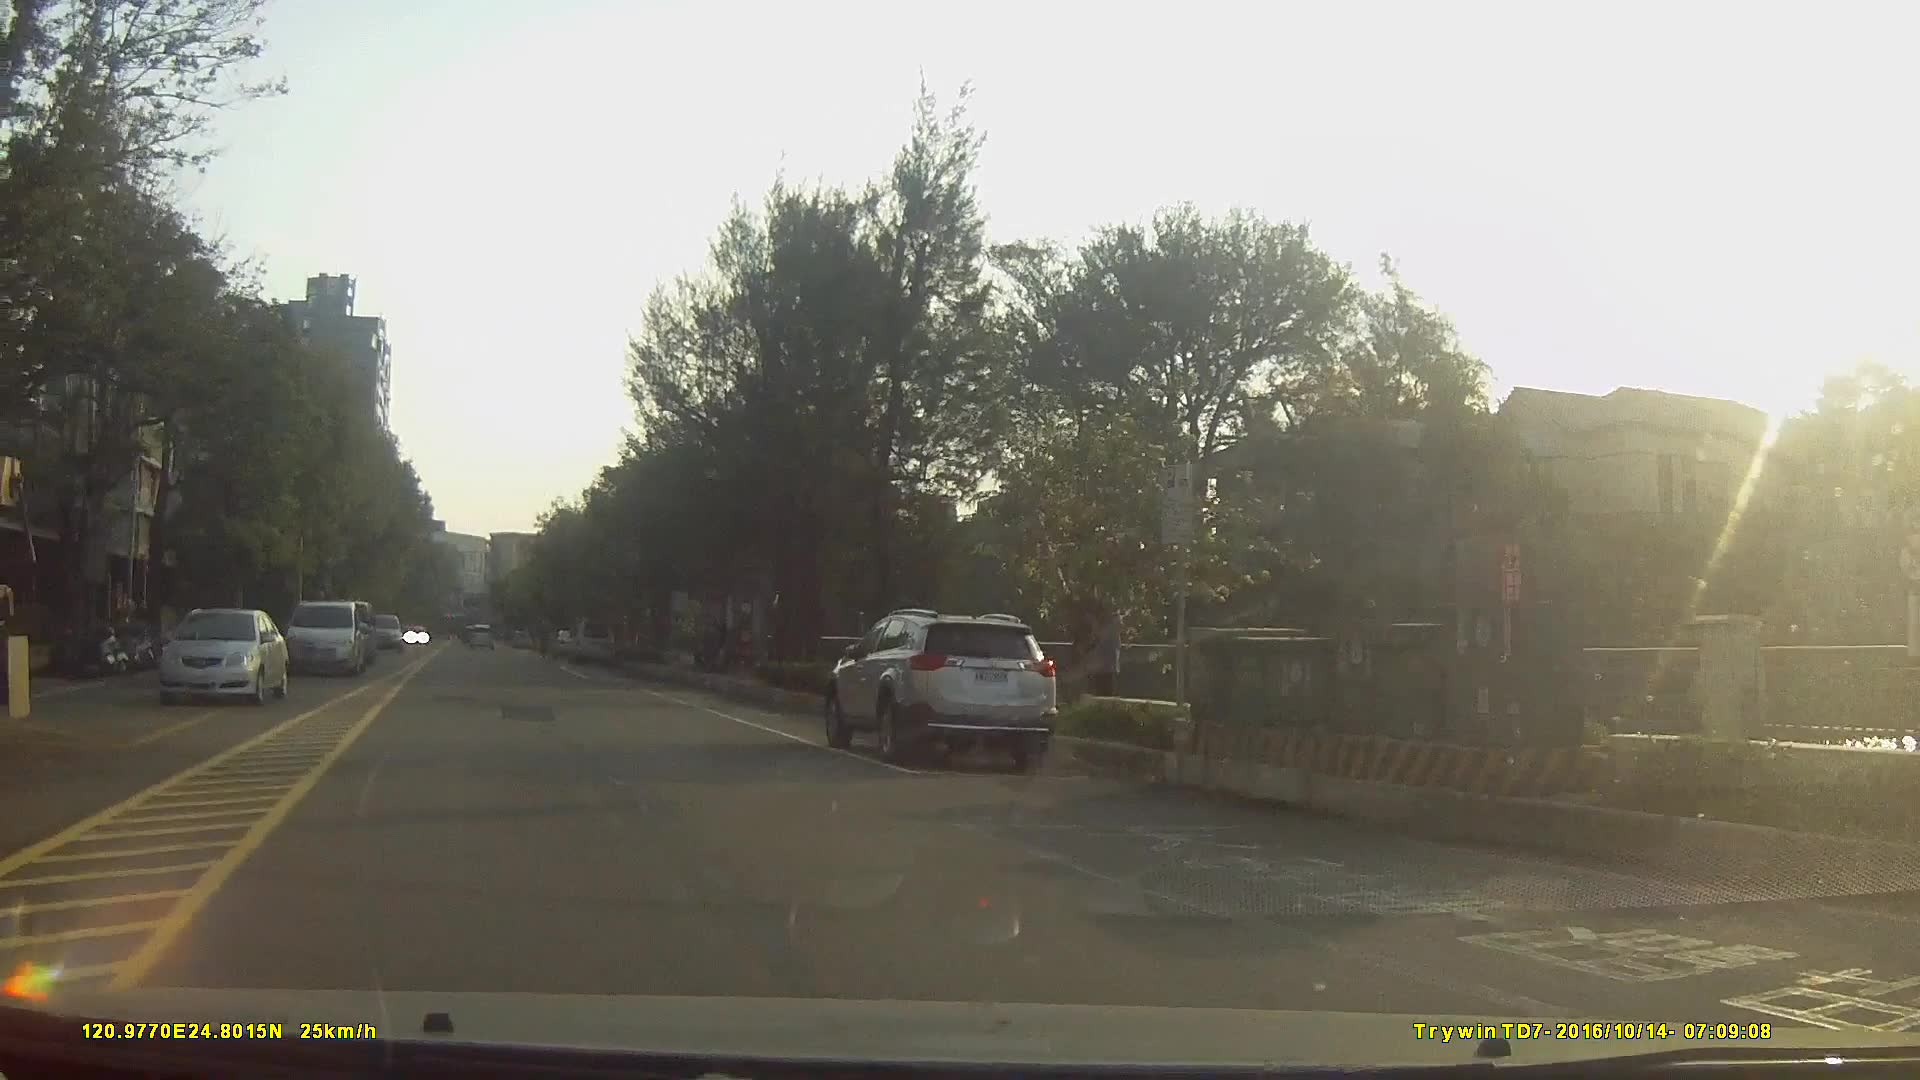vehicle: (825, 603, 1055, 761), (157, 607, 287, 702), (287, 599, 367, 676), (566, 618, 616, 665), (359, 607, 402, 653)
